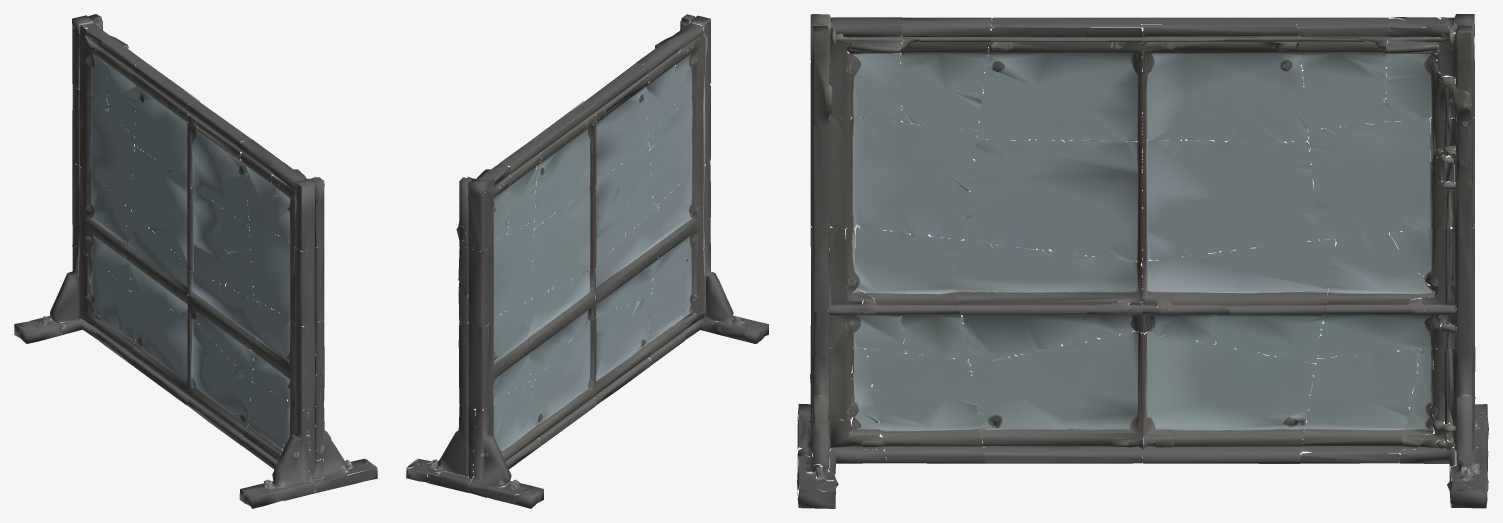
Rendered from arch_glass_barrier_LOD1.glb.
The picture shows the model from 3 angles, left to right: view 1: azimuth 30°, elevation 25°; view 2: azimuth 150°, elevation 25°; view 3: azimuth 270°, elevation 25°; orthographic projection. The views are drawn at different scales.
Visible parts, largest first — view 1: tripo_node_7fcb3078-808f-4030-9b7c-97f93c8b896c; view 2: tripo_node_7fcb3078-808f-4030-9b7c-97f93c8b896c; view 3: tripo_node_7fcb3078-808f-4030-9b7c-97f93c8b896c.
Boxes of the visible parts, left/top/right/bottom form: tripo_node_7fcb3078-808f-4030-9b7c-97f93c8b896c: left=14, top=14, right=377, bottom=508; tripo_node_7fcb3078-808f-4030-9b7c-97f93c8b896c: left=406, top=14, right=768, bottom=508; tripo_node_7fcb3078-808f-4030-9b7c-97f93c8b896c: left=797, top=14, right=1488, bottom=508.
Bounding box in the file's own units: 0.3044 × 0.7074 × 0.9987.
Materials: 1 (1 with a texture image).
